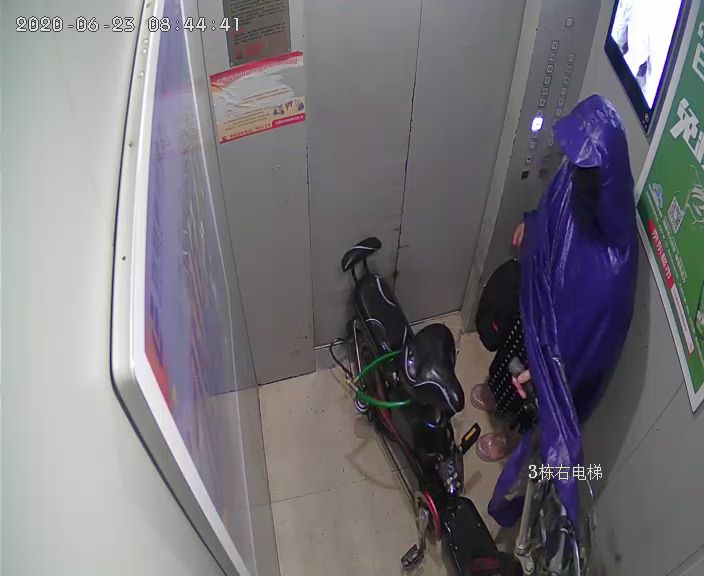Electric-bicycle: (335, 241, 595, 572)
